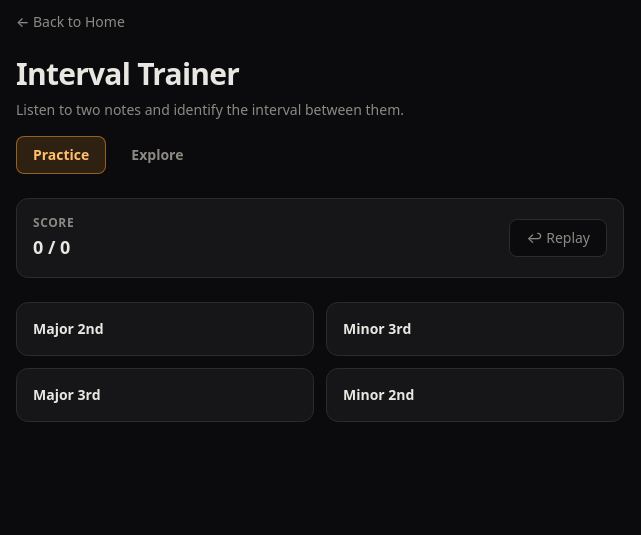
IntervalTrainer › wrong answer flow › clicking a wrong answer scores "0 / 1" and reveals the correct interval
Step 1. Click the button with aria-label "Answer Major 2nd" → click(68, 328), box [16, 302, 314, 356]
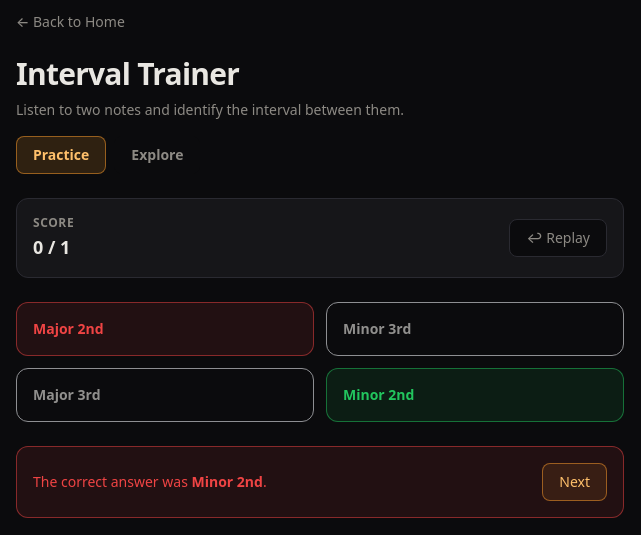
Expected: the text "Minor 2nd" is shown, [326, 368, 624, 422]
Expected: the text "0 / 1" is shown, [33, 233, 74, 261]
Expected: the text "The correct answer was" is shown, [33, 472, 192, 491]
